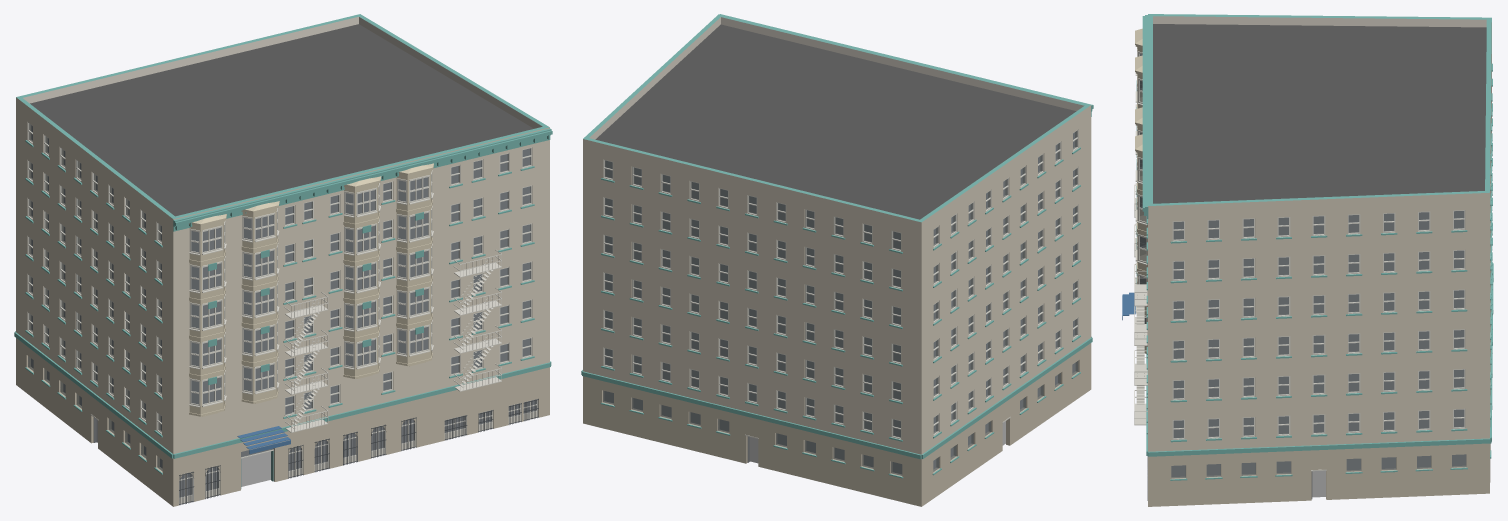
File: exterior.glb
The picture shows the model from 3 angles, left to right: view 1: azimuth 30°, elevation 25°; view 2: azimuth 150°, elevation 25°; view 3: azimuth 270°, elevation 25°; orthographic projection. The views are drawn at different scales.
Parts seen in each view (by area): view 1: shell, roof, bay-glazing-hyb, shadow-proxy, glazing, bay-windows-hyb, trim, frames, storefront, fire-escape, fire-escape.001, hand-ornament (+1 smaller); view 2: shell, roof, glazing, frames, shadow-proxy, trim; view 3: shell, roof, glazing, shadow-proxy, trim, frames, fire-escape, bay-windows-hyb, bay-glazing-hyb.
Boxes of the visible parts, x1,y1,x2,y2 form: shell: [16, 14, 549, 506]; roof: [30, 24, 533, 216]; bay-glazing-hyb: [189, 170, 433, 407]; shadow-proxy: [31, 125, 535, 496]; glazing: [28, 124, 536, 497]; bay-windows-hyb: [189, 163, 433, 416]; trim: [14, 128, 552, 474]; frames: [27, 122, 532, 434]; storefront: [90, 399, 538, 505]; fire-escape: [453, 249, 501, 391]; fire-escape.001: [284, 292, 328, 432]; hand-ornament: [208, 212, 423, 385]; shell: [583, 14, 1091, 506]; roof: [595, 24, 1076, 219]; glazing: [603, 131, 1077, 475]; frames: [603, 129, 1078, 439]; shadow-proxy: [604, 132, 1075, 473]; trim: [581, 14, 1093, 478]; shell: [1148, 14, 1491, 506]; roof: [1153, 24, 1486, 203]; glazing: [1171, 211, 1466, 478]; shadow-proxy: [1171, 211, 1465, 497]; trim: [1142, 15, 1493, 480]; frames: [1172, 210, 1465, 439]; fire-escape: [1134, 271, 1147, 425]; bay-windows-hyb: [1135, 28, 1147, 353]; bay-glazing-hyb: [1135, 47, 1147, 323].
Size of the model in its own units: 31.02 by 22.47 by 25.13.
